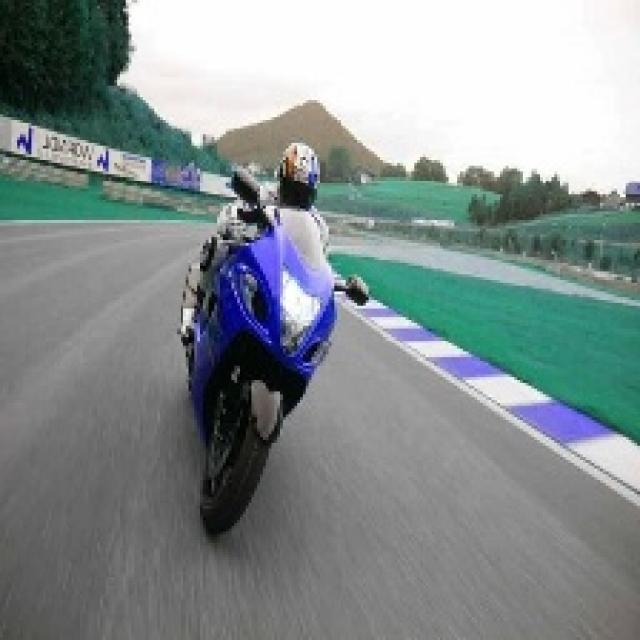bike: (194, 202, 330, 532)
